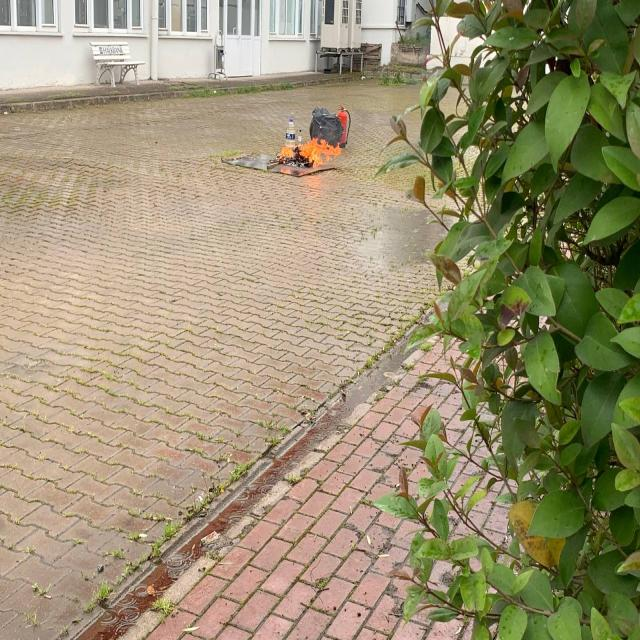fire: (272, 134, 343, 168)
